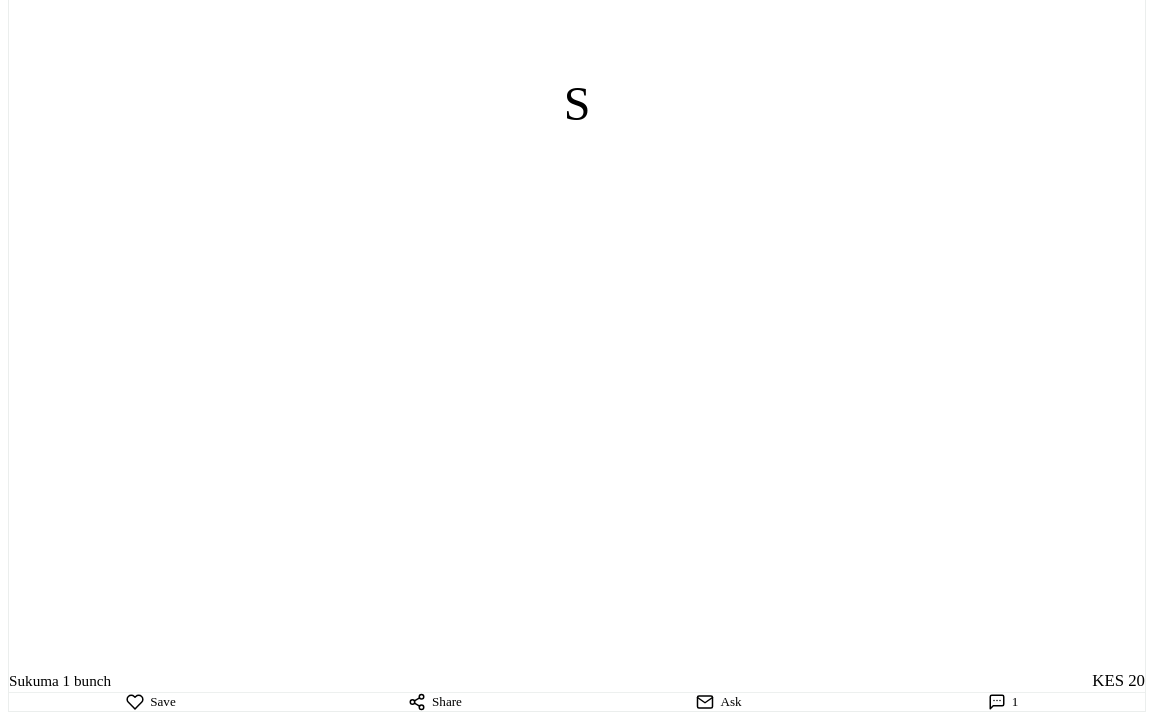
Scenario: ProductCard — comment likes › shows the like count and a filled heart when the viewer has liked it
This screenshot has width=1152, height=720.
(page scrolled)
Click the button with test id "comments-btn" at (1003, 702), box [861,692,1145,710]
(page scrolled)
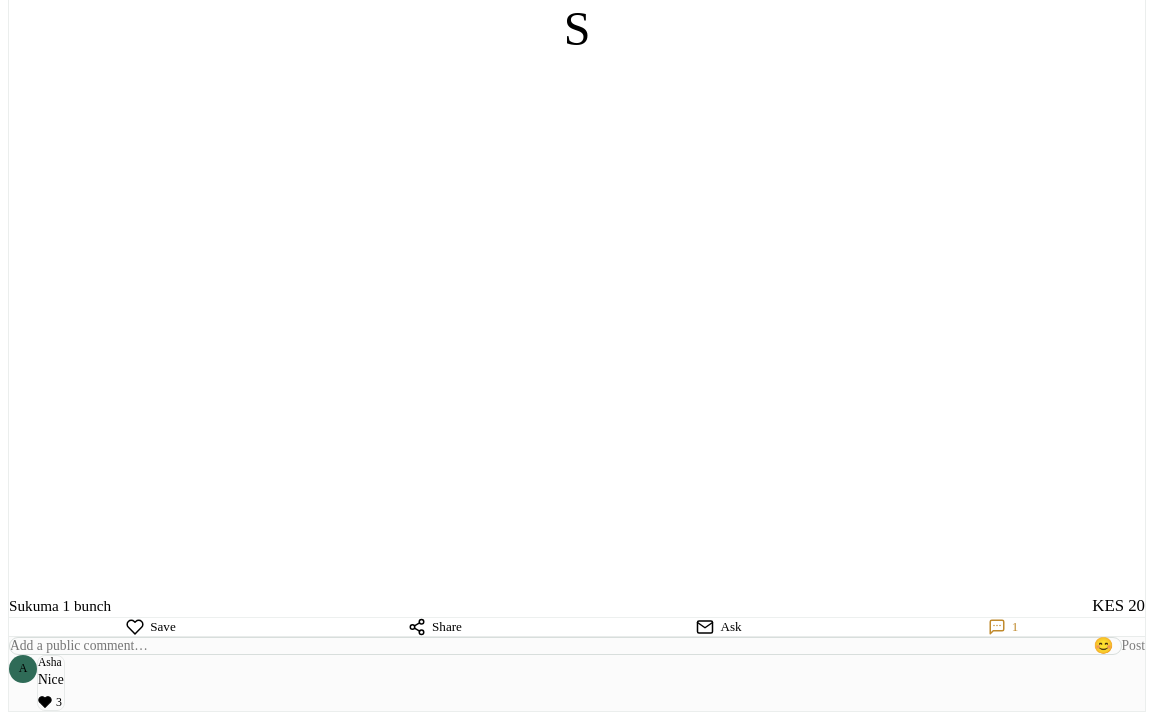
Result: the button with test id "comment-like" reads "3" at [38,694,62,710]
